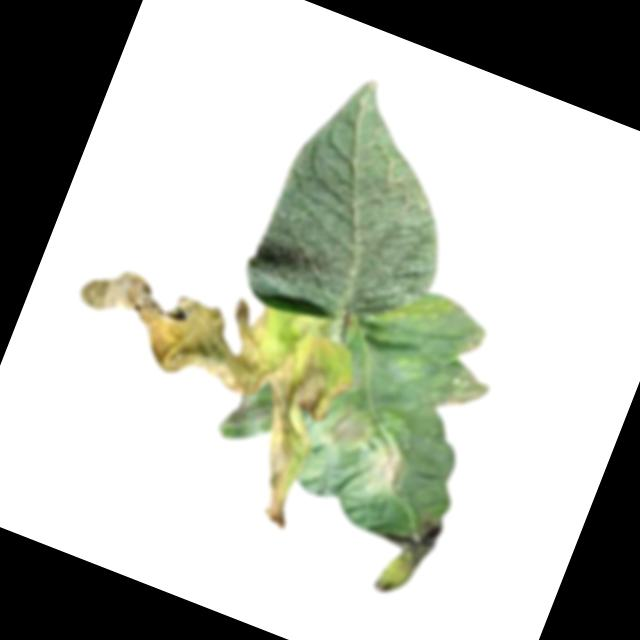Late_blight: (25, 237, 366, 535), (236, 62, 496, 359), (357, 499, 449, 607), (355, 437, 412, 506), (320, 399, 377, 464), (438, 364, 496, 422), (458, 322, 492, 364)
